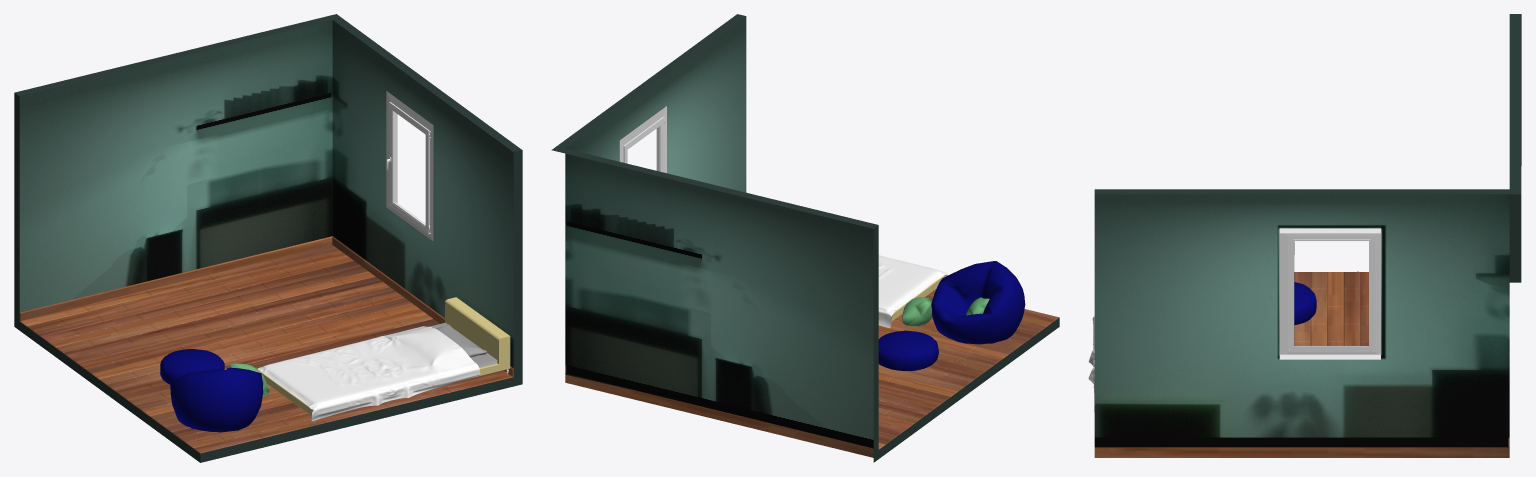
File: room.glb
The picture shows the model from 3 angles, left to right: view 1: azimuth 30°, elevation 25°; view 2: azimuth 150°, elevation 25°; view 3: azimuth 270°, elevation 25°; orthographic projection. The views are drawn at different scales.
Parts seen in each view (by area): view 1: BAKED_1, blanket, bed frame, pillow; view 2: BAKED_1, blanket; view 3: BAKED_1.
Part boxes in pixels (x1=…): BAKED_1: x1=14, y1=14, x2=522, y2=462; blanket: x1=257, y1=326, x2=480, y2=421; bed frame: x1=260, y1=297, x2=510, y2=415; pillow: x1=435, y1=324, x2=486, y2=357; BAKED_1: x1=551, y1=14, x2=1059, y2=462; blanket: x1=878, y1=255, x2=948, y2=328; BAKED_1: x1=1094, y1=14, x2=1521, y2=457.
Size of the model in its own units: 9.36 by 6.5 by 9.5.
13 materials, 2 textured.
